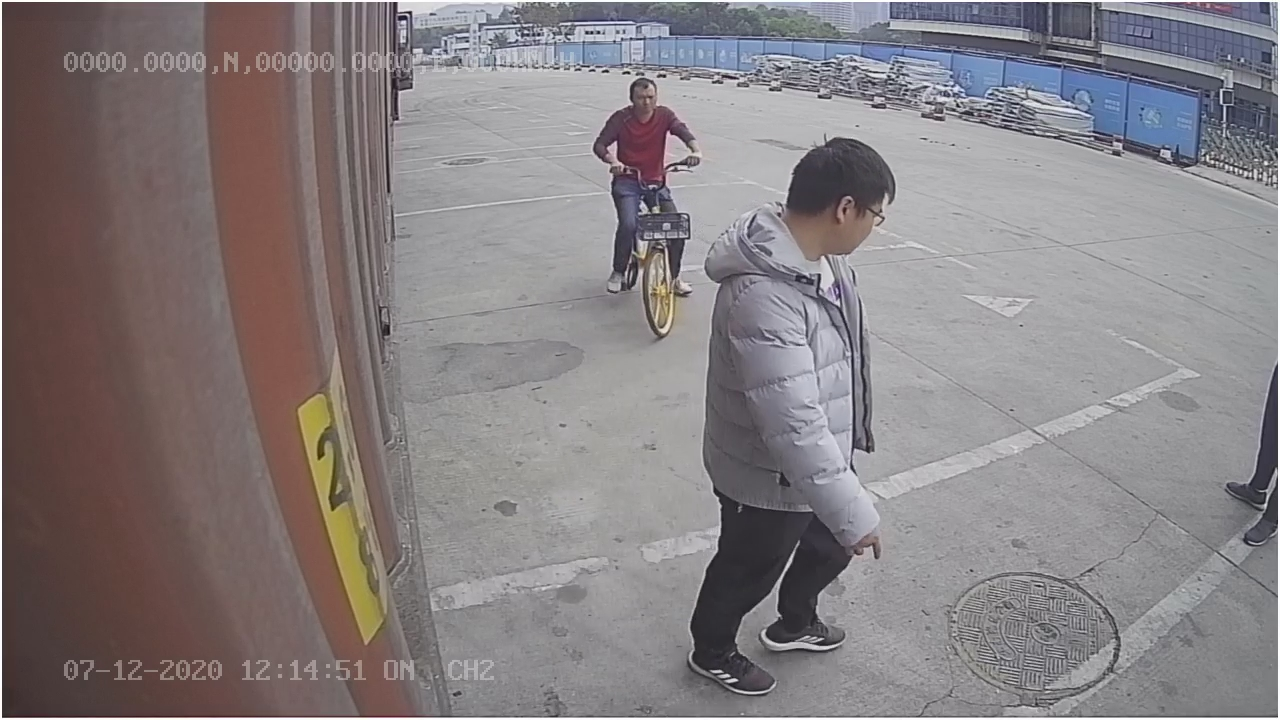person: (684, 129, 900, 699)
